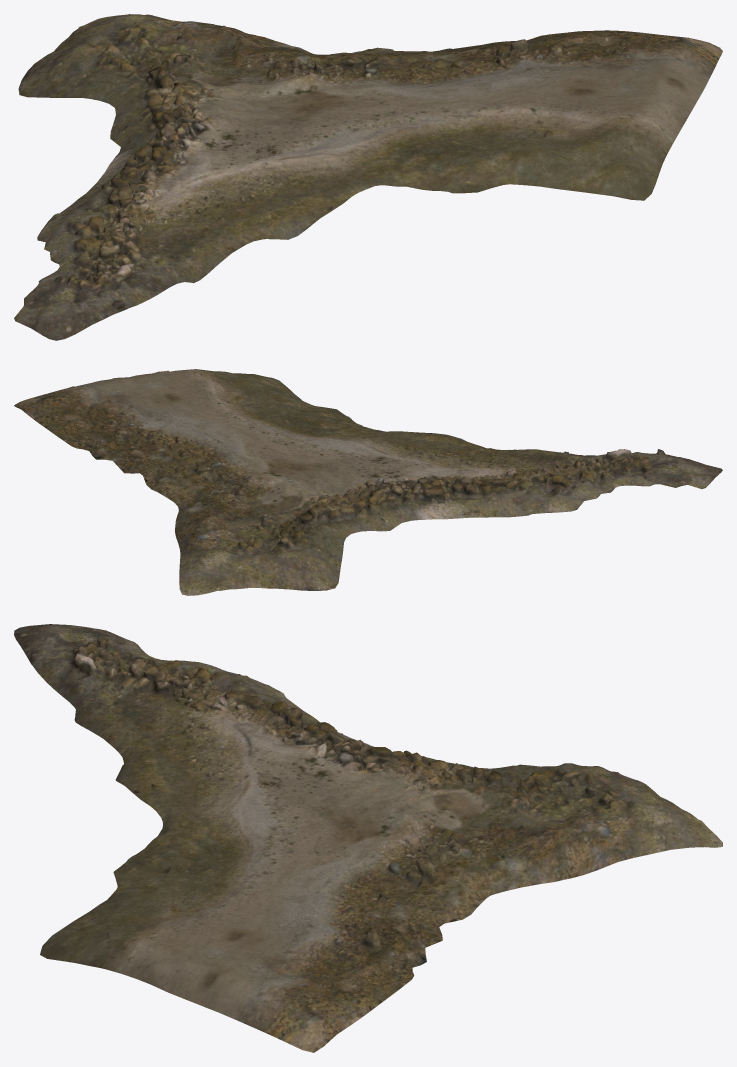
File: coast_rocks_01.glb
3 views of the same model, one above another, from view 1: azimuth 30°, elevation 25°; view 2: azimuth 150°, elevation 25°; view 3: azimuth 270°, elevation 25° (orthographic). The views are drawn at different scales.
Parts seen in each view (by area): view 1: coast_rocks_01_lo; view 2: coast_rocks_01_lo; view 3: coast_rocks_01_lo.
Part boxes in pixels (x1,y1,x2,y2): coast_rocks_01_lo: (14, 14, 722, 340); coast_rocks_01_lo: (14, 369, 722, 595); coast_rocks_01_lo: (14, 624, 722, 1052).
Size of the model in its own units: 59.5 by 3.28 by 42.52.
1 material, 1 textured.
